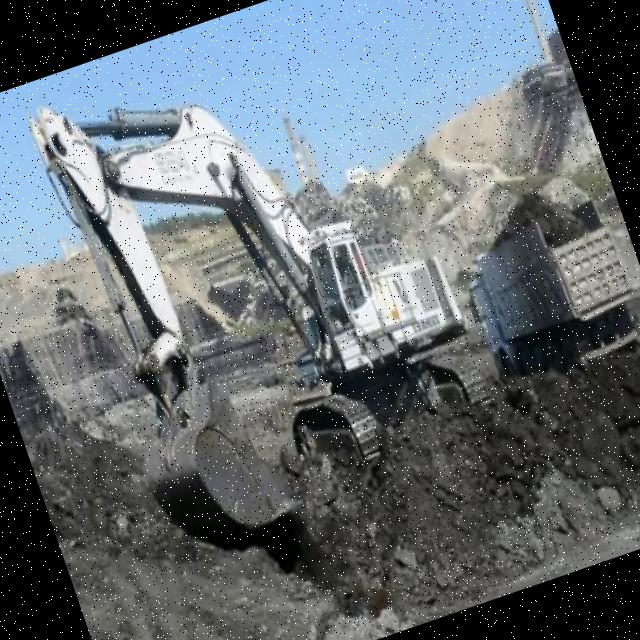Dump Truck: (442, 175, 640, 386)
Excavator: (8, 0, 518, 566)
